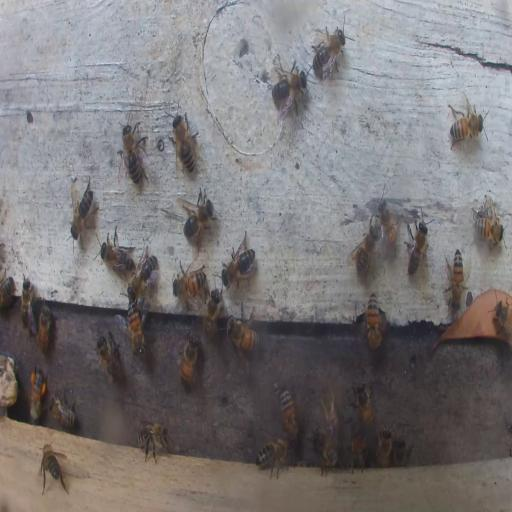bee: (179, 185, 221, 250), (309, 21, 348, 82), (348, 217, 382, 277), (119, 118, 147, 188), (170, 107, 198, 176), (69, 178, 98, 244), (222, 232, 256, 286), (270, 57, 308, 104), (98, 227, 134, 275), (404, 208, 429, 277), (447, 104, 486, 143), (94, 332, 122, 385), (255, 436, 290, 478), (136, 421, 170, 464), (39, 443, 67, 495), (128, 252, 156, 302), (473, 202, 504, 247), (127, 302, 147, 362), (172, 267, 207, 301), (378, 196, 398, 249), (351, 380, 373, 428), (228, 318, 259, 352), (279, 387, 298, 442), (364, 296, 382, 352), (204, 287, 223, 340), (180, 335, 199, 387), (28, 366, 46, 420), (449, 248, 465, 308), (20, 276, 36, 336), (49, 396, 76, 431), (37, 302, 53, 356), (350, 426, 368, 471), (320, 383, 337, 430), (492, 300, 511, 340), (375, 425, 393, 467), (320, 440, 340, 474), (0, 275, 16, 309), (394, 436, 408, 464)
